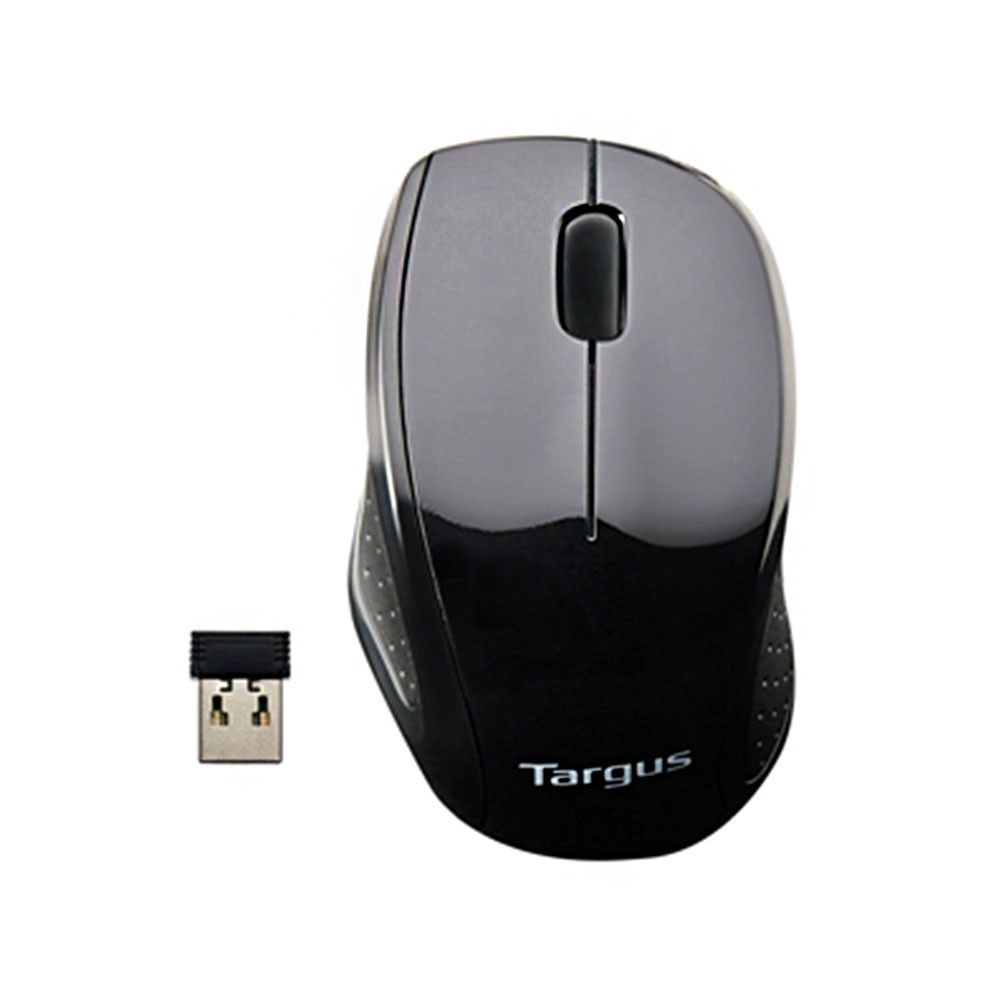Mouse: (334, 124, 811, 887)
